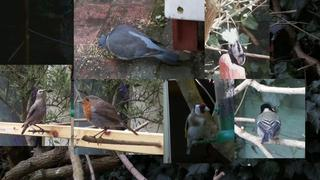goldfinch: (185, 103, 210, 155)
great tit: (256, 103, 281, 145)
long tailed tit: (232, 24, 246, 66)
robin: (76, 95, 139, 147)
starling: (21, 89, 47, 135)
wood pigeon: (98, 24, 181, 66)
